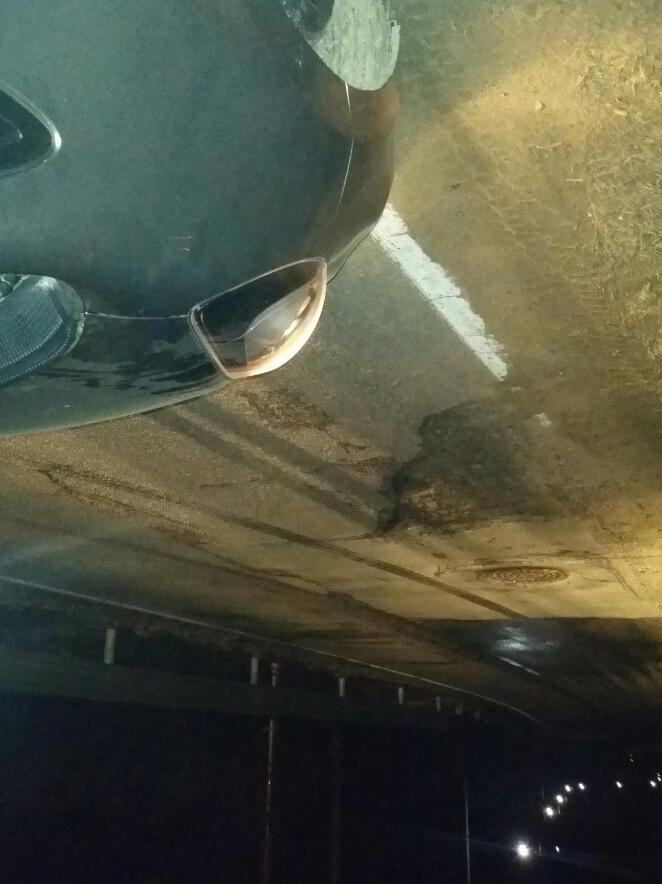pothole: (357, 347, 576, 547)
